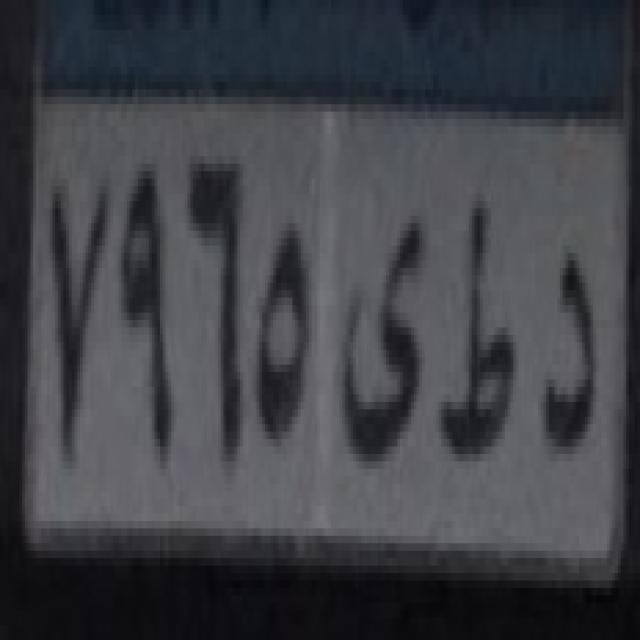5: (252, 210, 322, 467)
6: (178, 157, 250, 477)
7: (40, 153, 113, 486)
9: (116, 153, 180, 473)
Taa: (438, 203, 530, 451)
Yeeh: (329, 193, 434, 478)
daal: (536, 234, 611, 453)
